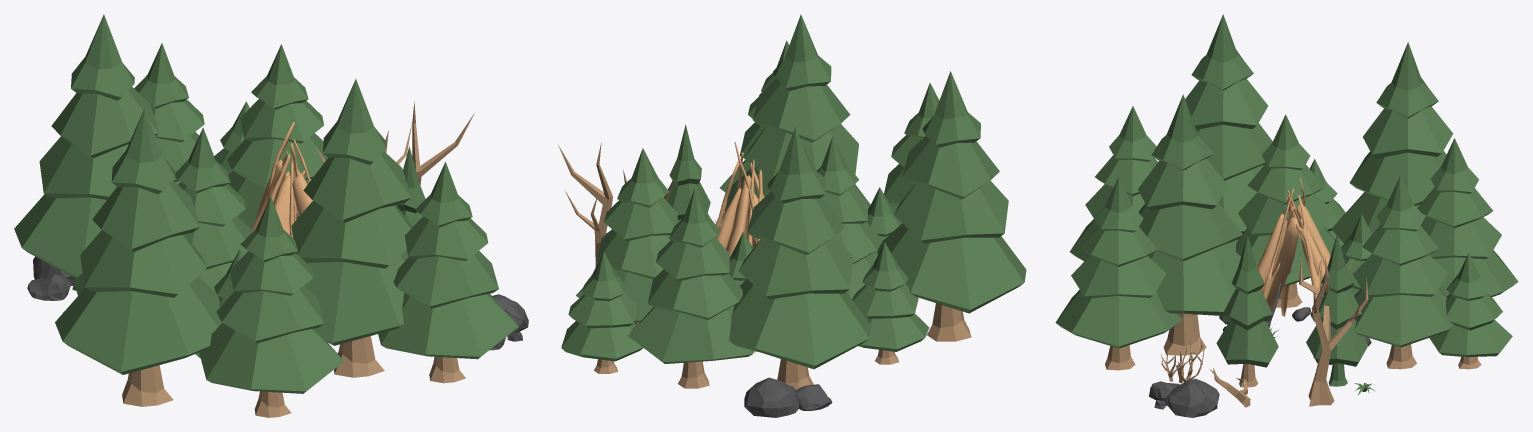
The model's file is Manananggal-Gubat.fbx.
The picture shows the model from 3 angles, left to right: view 1: azimuth 30°, elevation 25°; view 2: azimuth 150°, elevation 25°; view 3: azimuth 270°, elevation 25°; orthographic projection. The views are drawn at different scales.
Parts seen in each view (by area): view 1: Stone_group_average; view 2: Stone_group_average; view 3: Stone_group_average.
Boxes of the visible parts, left/top/right/bottom form: Stone_group_average: left=14, top=14, right=528, bottom=417; Stone_group_average: left=558, top=14, right=1026, bottom=417; Stone_group_average: left=1055, top=14, right=1518, bottom=417.
Bounding box in the file's own units: 1377 × 829 × 1364.
